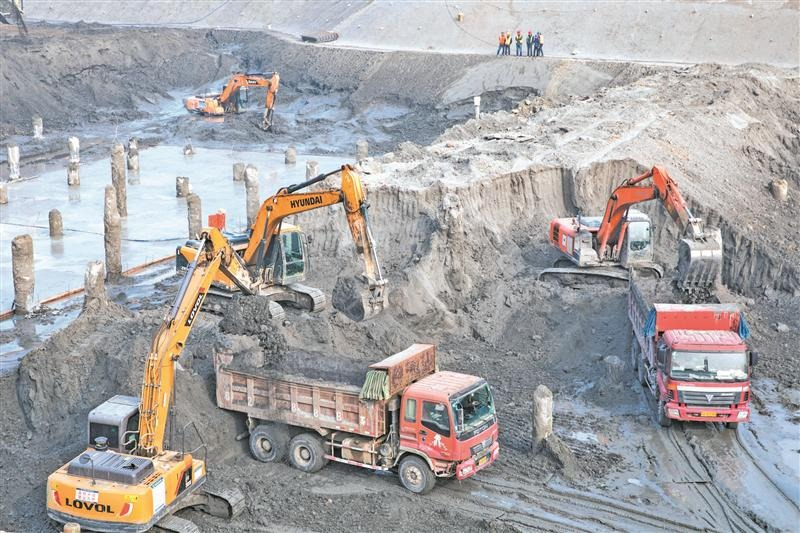excavator: (40, 230, 270, 533), (195, 160, 401, 321), (545, 163, 735, 307), (178, 70, 290, 131)
